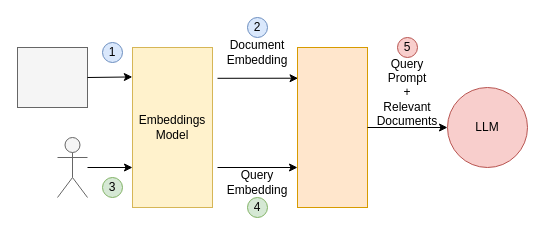
This 545x236 diagram has some shape labels left out. The shapes that lost their labels are listed below. From the top down, each one's centre as x and y in pixels, then its label:
the point at 52,77: Digital Documents
the point at 332,127: Vector Database
the point at 72,167: User Query
